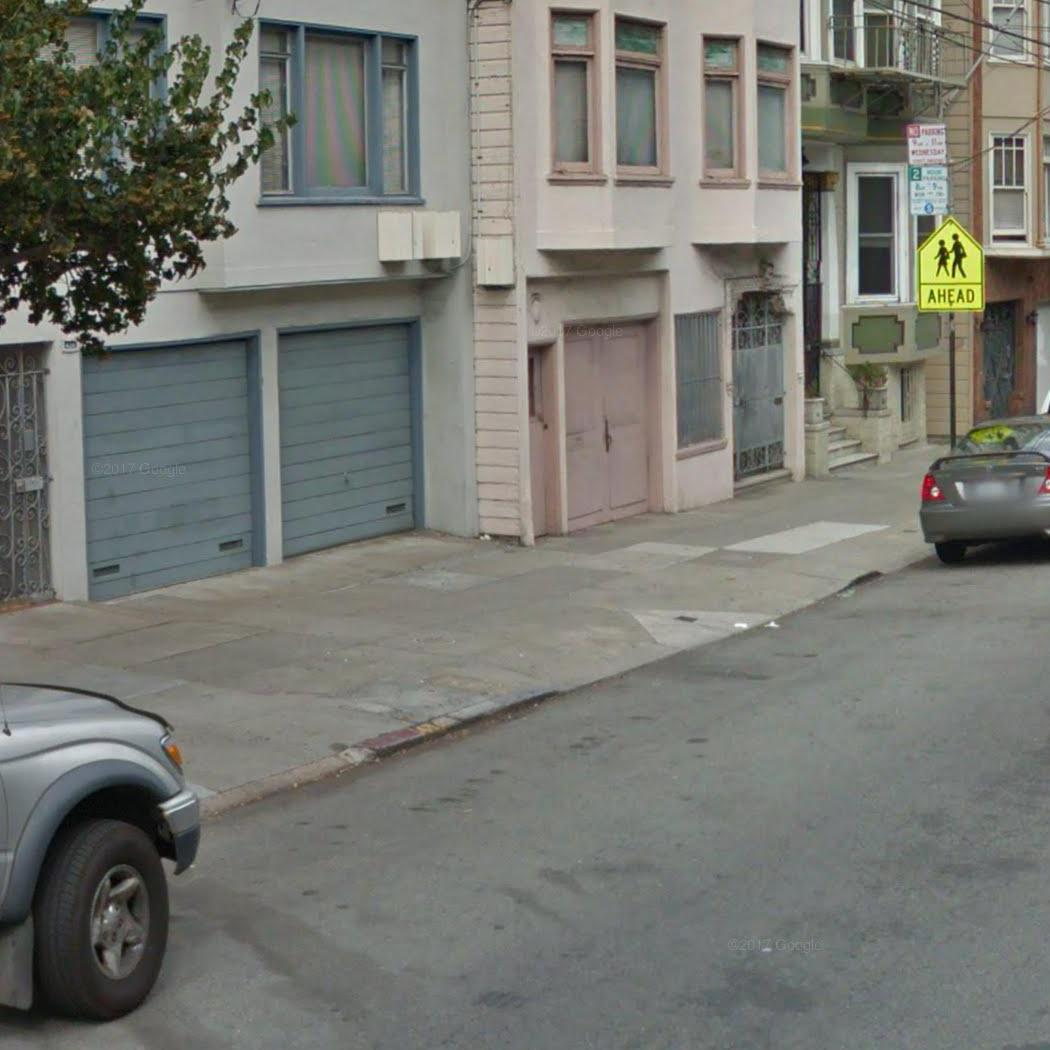2 Hour Parking: (906, 162, 951, 219)
No Parking: (904, 121, 948, 165)
